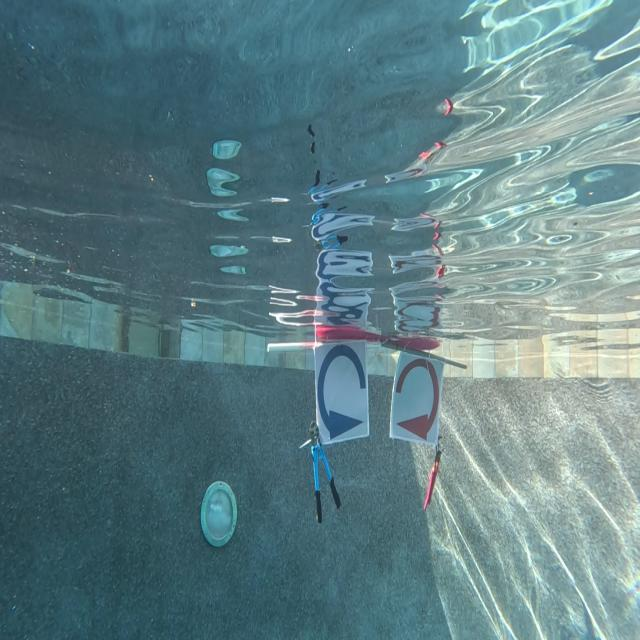blue_side: (317, 348, 368, 441)
red_side: (393, 354, 439, 437)
